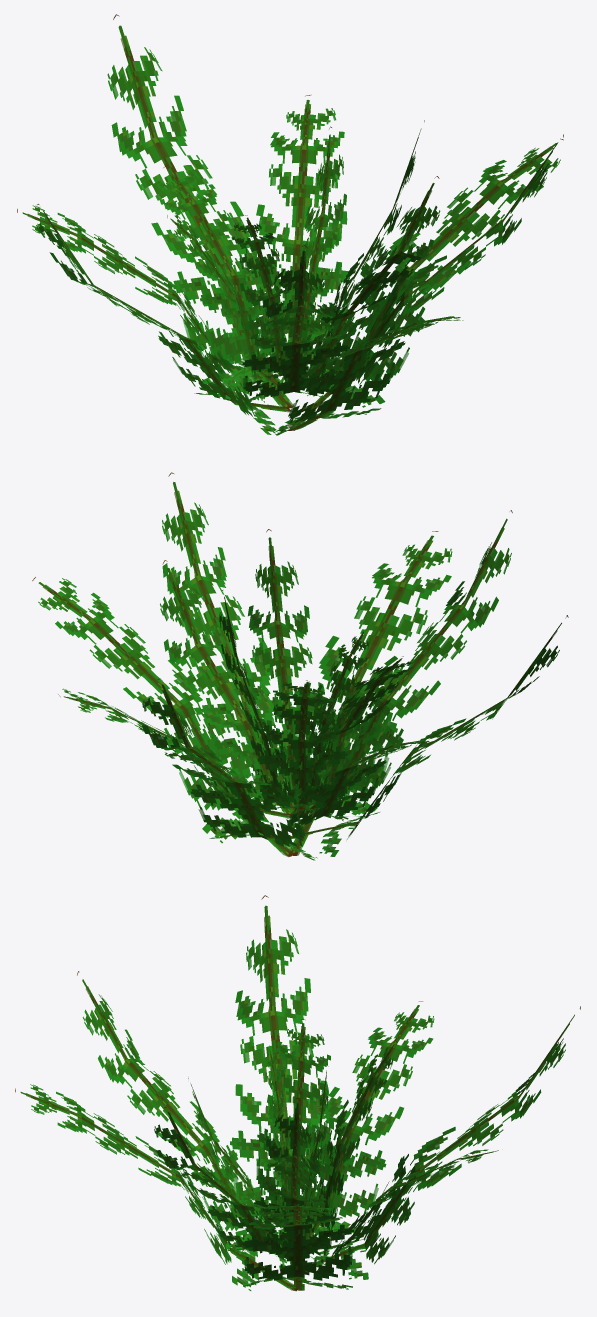
File: samambaia.glb
3 renders of one model, top to bottom at view 1: azimuth 30°, elevation 25°; view 2: azimuth 150°, elevation 25°; view 3: azimuth 270°, elevation 25°, orthographic. The views are drawn at different scales.
Visible parts, largest first — view 1: Plane; view 2: Plane; view 3: Plane.
Part boxes in pixels (x1,y1,x2,y2): Plane: (17, 14, 563, 435); Plane: (32, 472, 568, 860); Plane: (15, 895, 580, 1291).
Size of the model in its own units: 1.95 by 1.04 by 1.95.
1 material, 1 textured.
